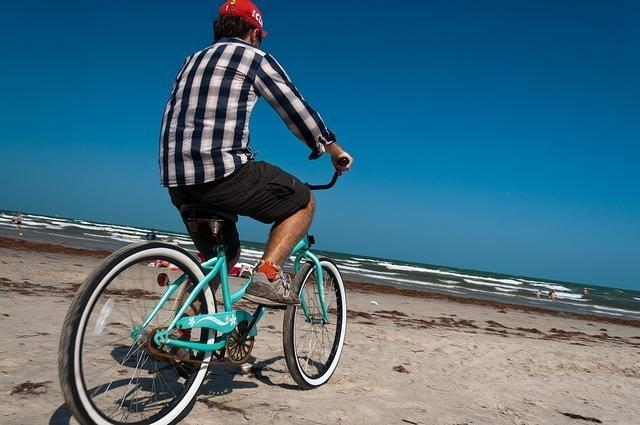bicycle: (63, 243, 345, 418)
